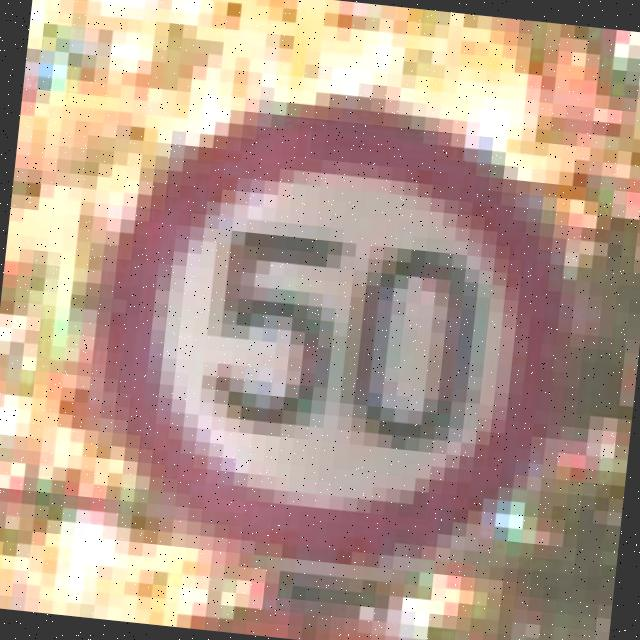Ograniczenie predkosci do 50: (93, 81, 589, 588)
